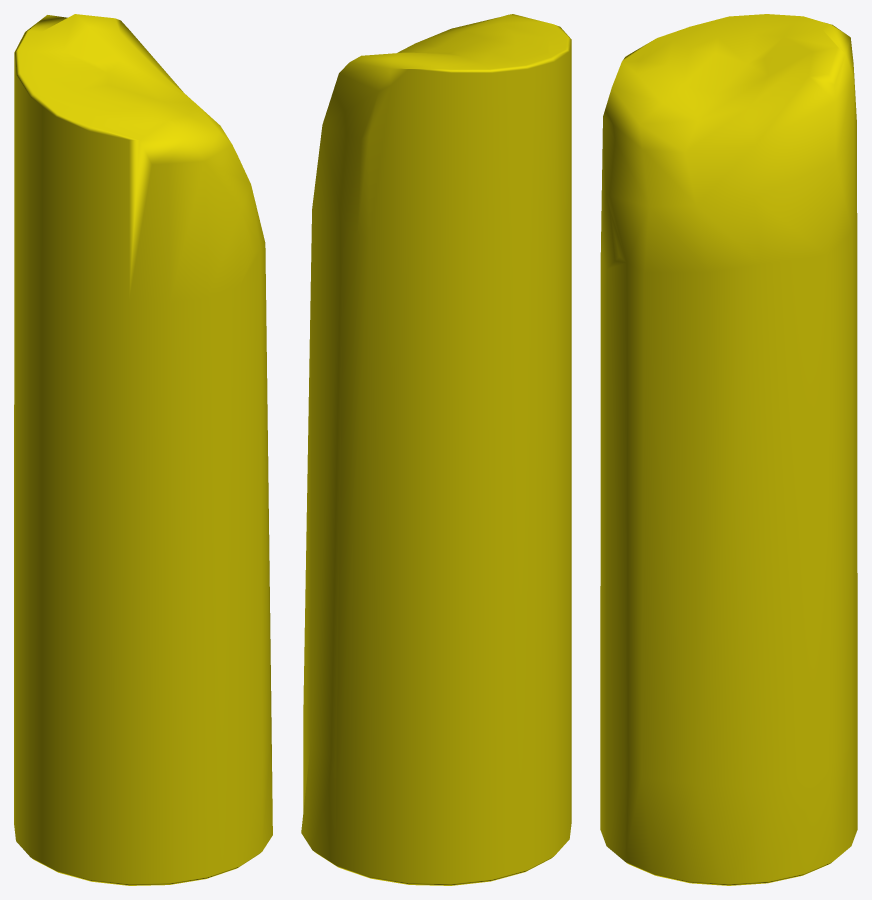
File: Pillar_Break_01_Lod0.fbx
The picture shows the model from 3 angles, left to right: view 1: azimuth 30°, elevation 25°; view 2: azimuth 150°, elevation 25°; view 3: azimuth 270°, elevation 25°; orthographic projection. The views are drawn at different scales.
Parts seen in each view (by area): view 1: Pillar_Break_01_Lod0; view 2: Pillar_Break_01_Lod0; view 3: Pillar_Break_01_Lod0.
Boxes of the visible parts, left/top/right/bottom form: Pillar_Break_01_Lod0: left=14, top=14, right=272, bottom=885; Pillar_Break_01_Lod0: left=301, top=14, right=571, bottom=885; Pillar_Break_01_Lod0: left=600, top=14, right=857, bottom=885.
Size of the model in its own units: 277 by 916 by 274.
